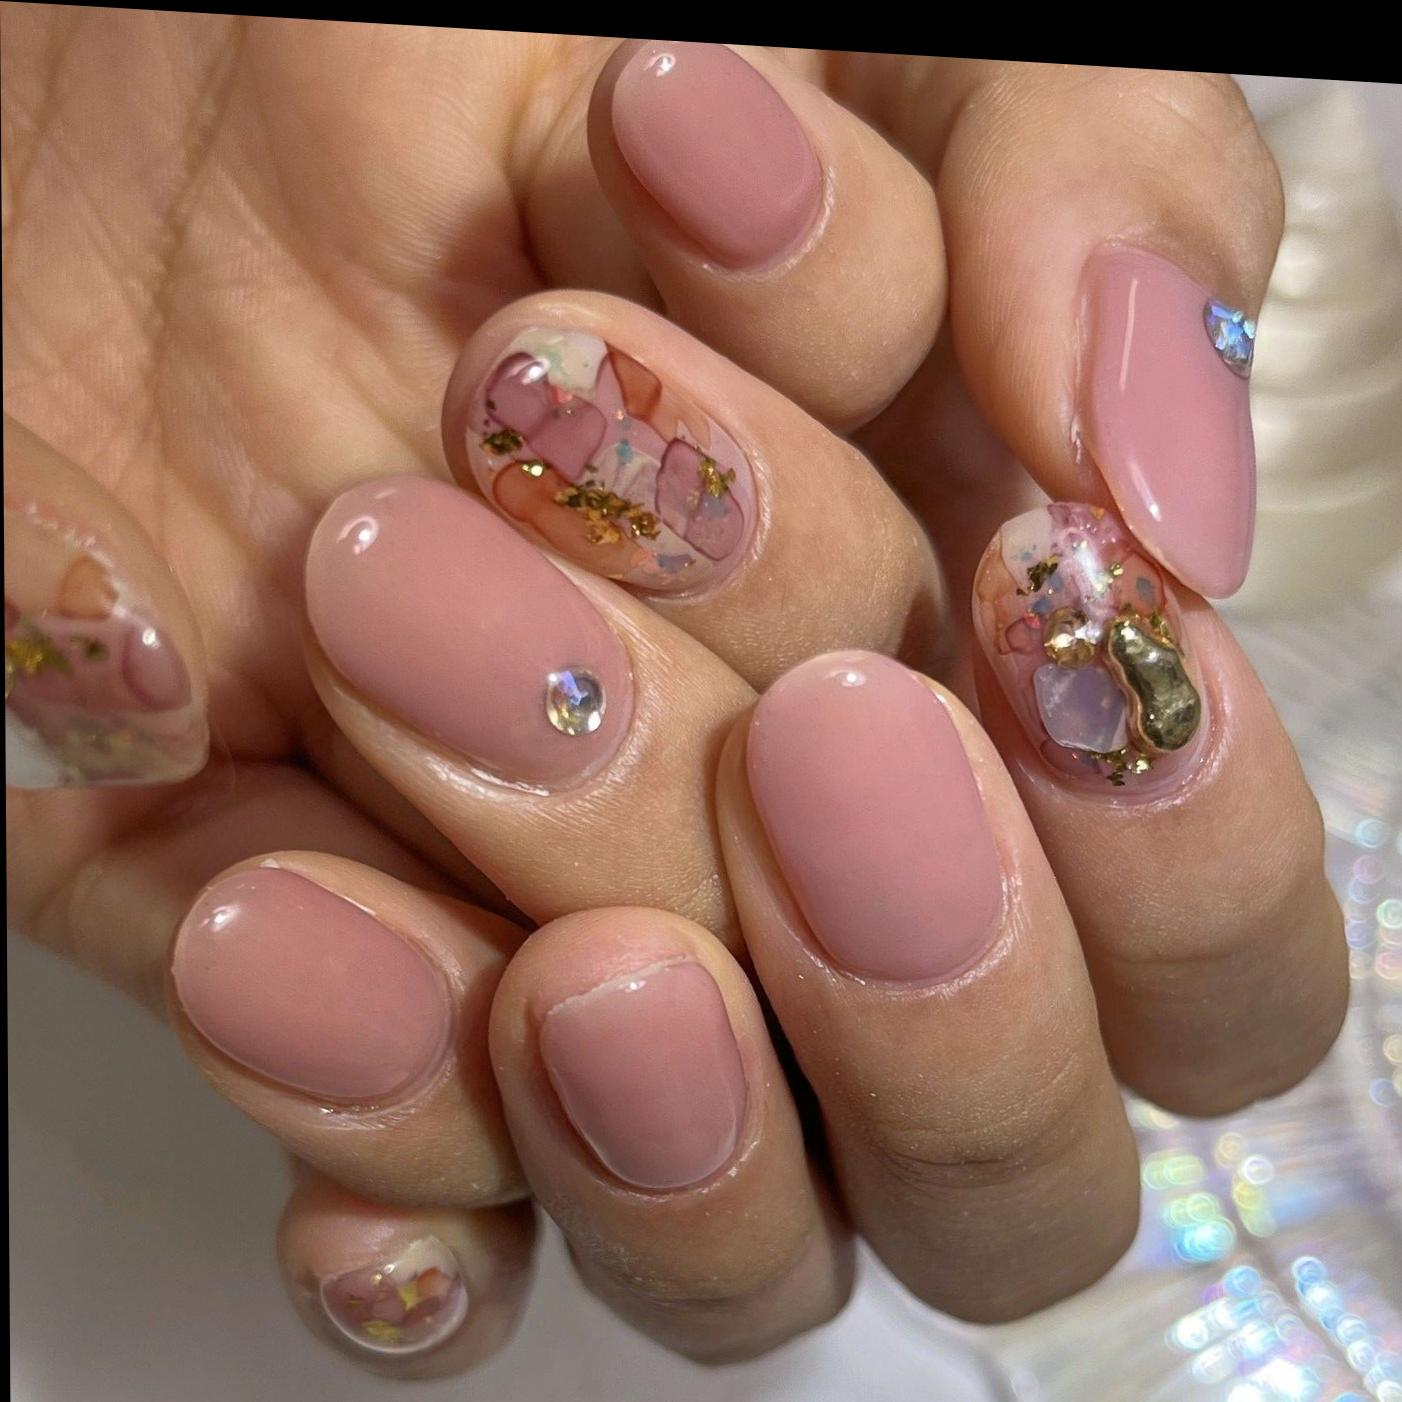nail: (302, 465, 639, 800), (742, 639, 1016, 998), (3, 395, 214, 800), (169, 846, 460, 1120), (469, 325, 757, 591), (973, 502, 1212, 804), (1078, 241, 1263, 601), (603, 36, 833, 281), (537, 944, 752, 1199), (318, 1225, 472, 1360)
